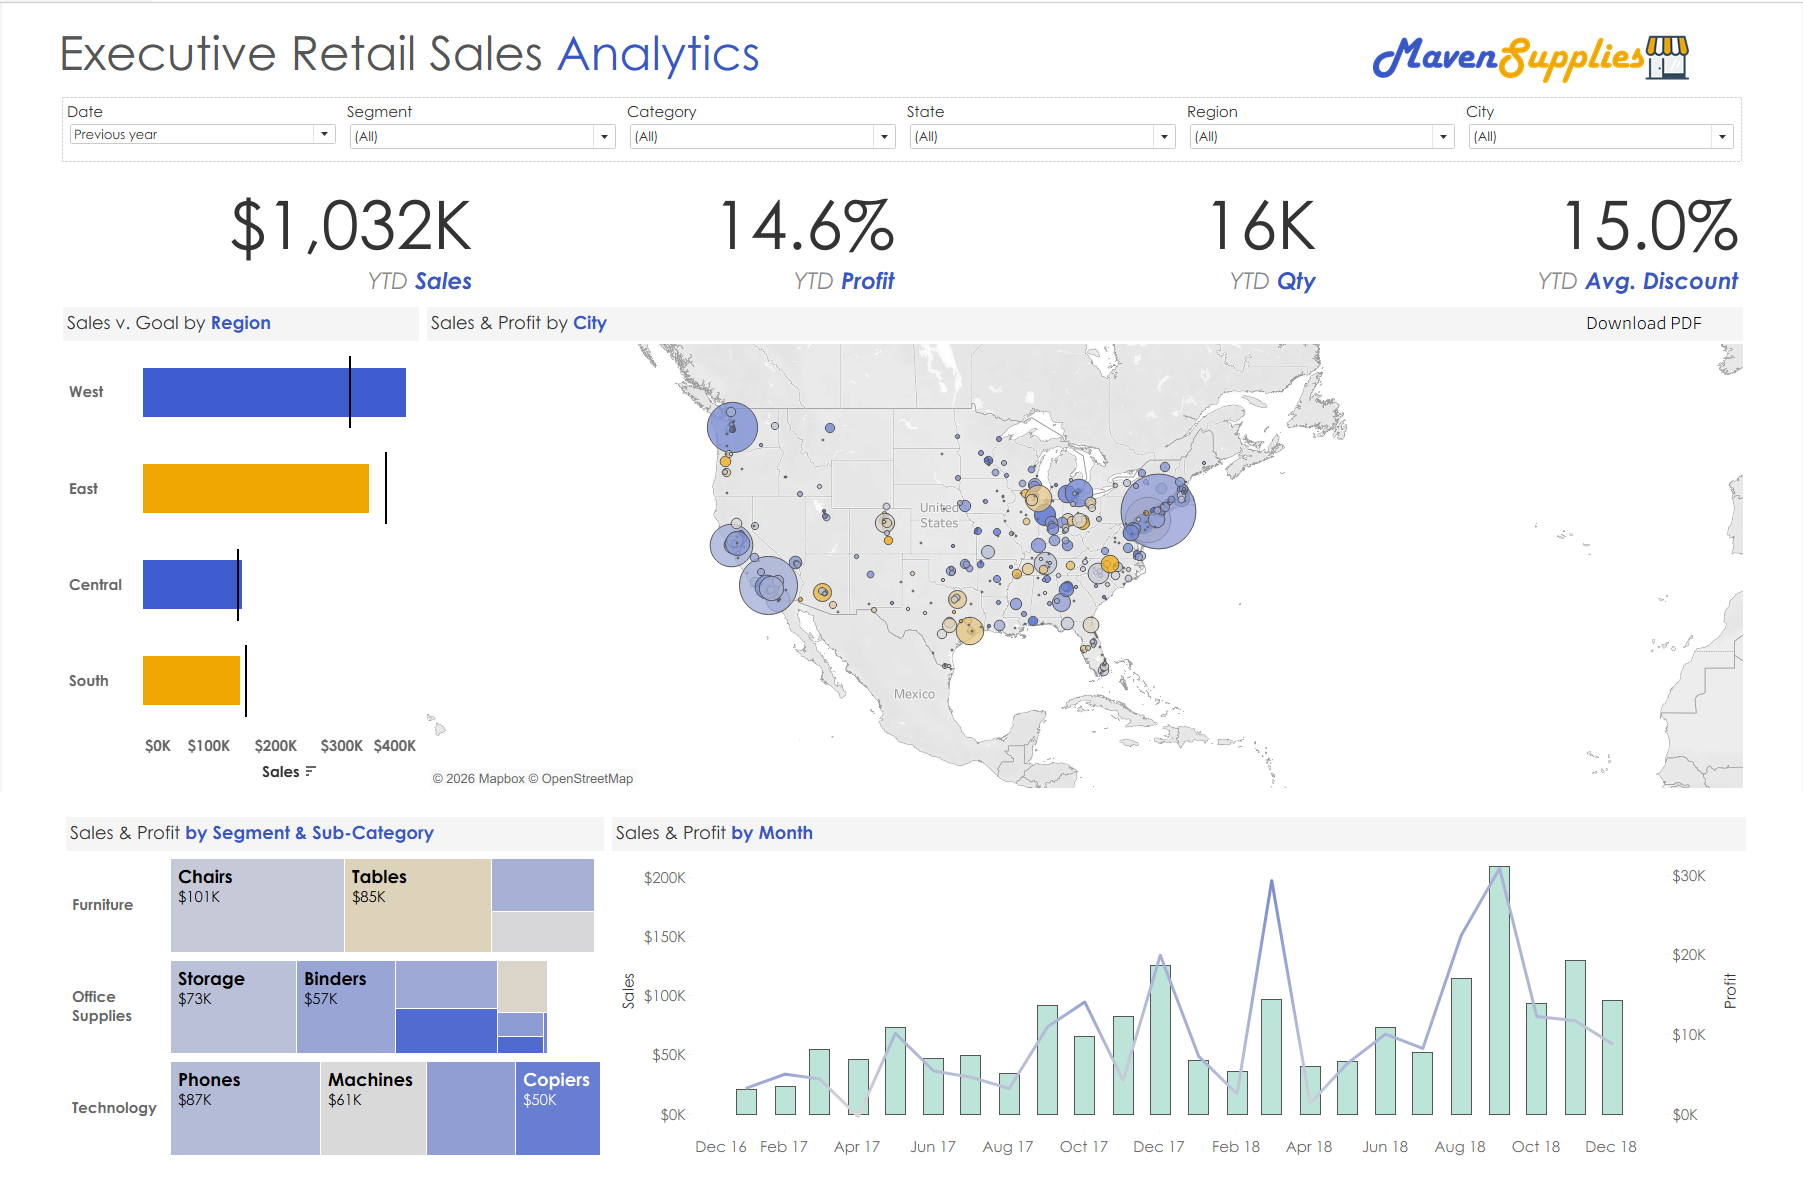

The page's visual inventory and layout, read from the dashboard file:
{"tool":"tableau","page":{"name":"Executive Dashboard","canvas":[1800,1200],"ordinal":1},"visuals":[{"type":"blank","box":[0,0,1800,90]},{"type":"text","box":[52.5,20,1126.5,58]},{"type":"image","param":"Image/Maven Supplies Logo.png","box":[1365,25,384,57]},{"type":"filter","title":"Treemap - Sales by Sub-Category","param":"[federated.0nayi0l1egsd8t18wtyq110iw3qj].[none:Order Date (MDY):qk]","box":[61,95,280,63]},{"type":"filter","title":"Treemap - Sales by Sub-Category","param":"[federated.0nayi0l1egsd8t18wtyq110iw3qj].[none:Segment:nk]","box":[341,95,280,63]},{"type":"filter","title":"Treemap - Sales by Sub-Category","param":"[federated.0nayi0l1egsd8t18wtyq110iw3qj].[none:Category:nk]","box":[621,95,280,63]},{"type":"filter","title":"Treemap - Sales by Sub-Category","param":"[federated.0nayi0l1egsd8t18wtyq110iw3qj].[none:State:nk]","box":[901,95,280,63]},{"type":"filter","title":"Treemap - Sales by Sub-Category","param":"[federated.0nayi0l1egsd8t18wtyq110iw3qj].[none:Region:nk]","box":[1181,95,279,63]},{"type":"filter","title":"Bars - Sales v. Goal","param":"[federated.0nayi0l1egsd8t18wtyq110iw3qj].[none:City:nk]","box":[1460,95,279,63]},{"type":"worksheet","title":"BAN - YTD Sales","mark":"Automatic","box":[57,175,422,125]},{"type":"worksheet","title":"BAN - YTD Profit","mark":"Automatic","box":[479,175,422,125]},{"type":"worksheet","title":"BAN - YTD Qty","mark":"Automatic","box":[901,175,422,125]},{"type":"worksheet","title":"BAN - YTD Avg. Discount","mark":"Automatic","box":[1323,175,422,125]},{"type":"worksheet","title":"Bars - Sales v. Goal","mark":"Automatic","rows":["Region"],"cols":["Sales","Goal"],"box":[57,300,364,489]},{"type":"worksheet","title":"Map - Sales & Profit","mark":"Automatic","box":[421,300,1323.5,489]},{"type":"dashboard-object","box":[1542,309,201,21]},{"type":"worksheet","title":"Treemap - Sales by Sub-Category","mark":"Automatic","rows":["Category"],"box":[57,789,546,351]},{"type":"worksheet","title":"Bar Line - Monthly Sales Trend","mark":"Bar","rows":["Sales","Profit"],"cols":["Order Date (MDY)"],"box":[603,789,1141.5,351]}]}

Visuals, with their boxes in screenshot pixels (x1, y1, x2, y2), scaled from the page's 1800x1200 canvas onto the 1803x1184 screenshot:
blank: {"left": 0, "top": 0, "right": 1802, "bottom": 89}
text: {"left": 53, "top": 20, "right": 1181, "bottom": 77}
image: {"left": 1367, "top": 25, "right": 1752, "bottom": 81}
"Treemap - Sales by Sub-Category" filter: {"left": 61, "top": 94, "right": 342, "bottom": 156}
"Treemap - Sales by Sub-Category" filter: {"left": 342, "top": 94, "right": 622, "bottom": 156}
"Treemap - Sales by Sub-Category" filter: {"left": 622, "top": 94, "right": 903, "bottom": 156}
"Treemap - Sales by Sub-Category" filter: {"left": 903, "top": 94, "right": 1183, "bottom": 156}
"Treemap - Sales by Sub-Category" filter: {"left": 1183, "top": 94, "right": 1462, "bottom": 156}
"Bars - Sales v. Goal" filter: {"left": 1462, "top": 94, "right": 1742, "bottom": 156}
"BAN - YTD Sales" worksheet: {"left": 57, "top": 173, "right": 480, "bottom": 296}
"BAN - YTD Profit" worksheet: {"left": 480, "top": 173, "right": 903, "bottom": 296}
"BAN - YTD Qty" worksheet: {"left": 903, "top": 173, "right": 1325, "bottom": 296}
"BAN - YTD Avg. Discount" worksheet: {"left": 1325, "top": 173, "right": 1748, "bottom": 296}
"Bars - Sales v. Goal" worksheet: {"left": 57, "top": 296, "right": 422, "bottom": 778}
"Map - Sales & Profit" worksheet: {"left": 422, "top": 296, "right": 1747, "bottom": 778}
dashboard-object: {"left": 1545, "top": 305, "right": 1746, "bottom": 326}
"Treemap - Sales by Sub-Category" worksheet: {"left": 57, "top": 778, "right": 604, "bottom": 1125}
"Bar Line - Monthly Sales Trend" worksheet (Bar marks): {"left": 604, "top": 778, "right": 1747, "bottom": 1125}
